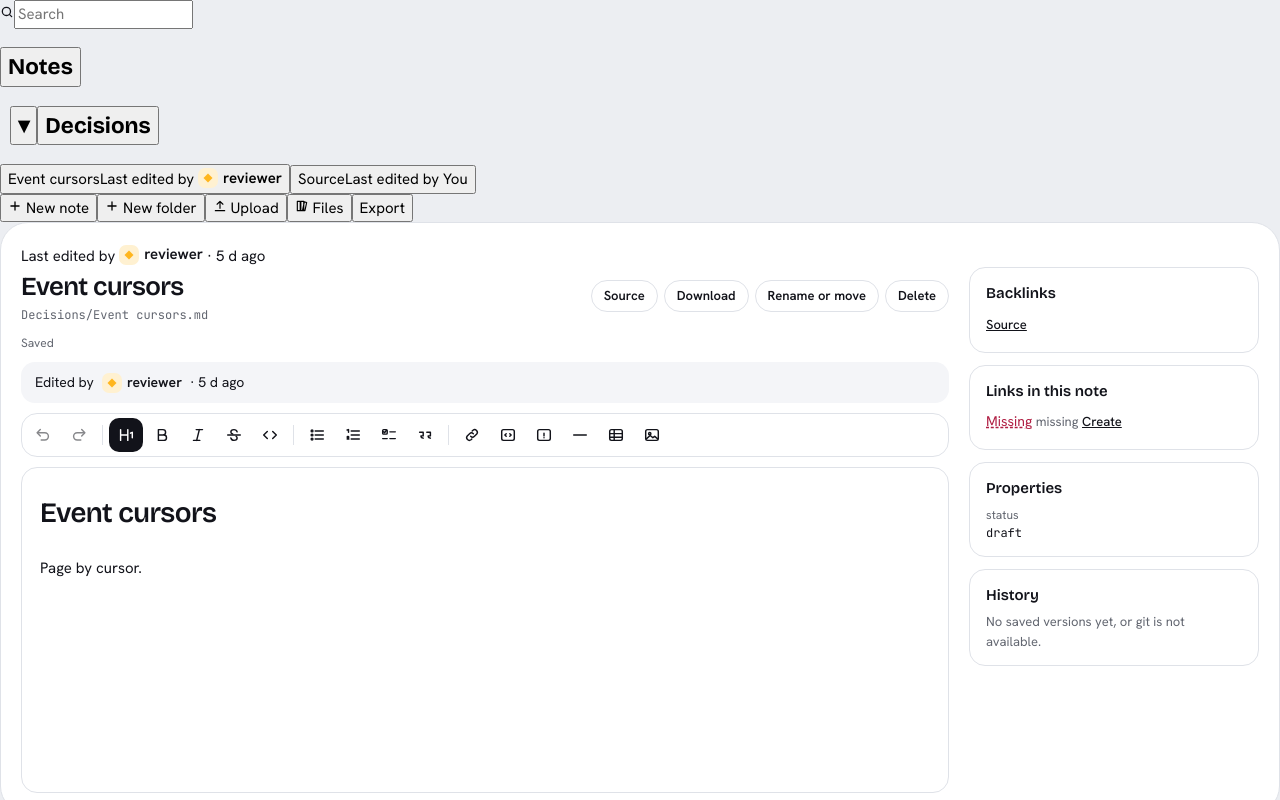
it: a note shows links, backlinks, properties and history; a backlink opens in the panel
Expected: the heading "Backlinks" is shown, [986,284,1056,302]
Expected: the heading "Properties" is shown, [986,479,1062,497]
Click the button "Source" below "Backlinks". click: coordinates (1006, 324)
box: [986,314,1027,334]
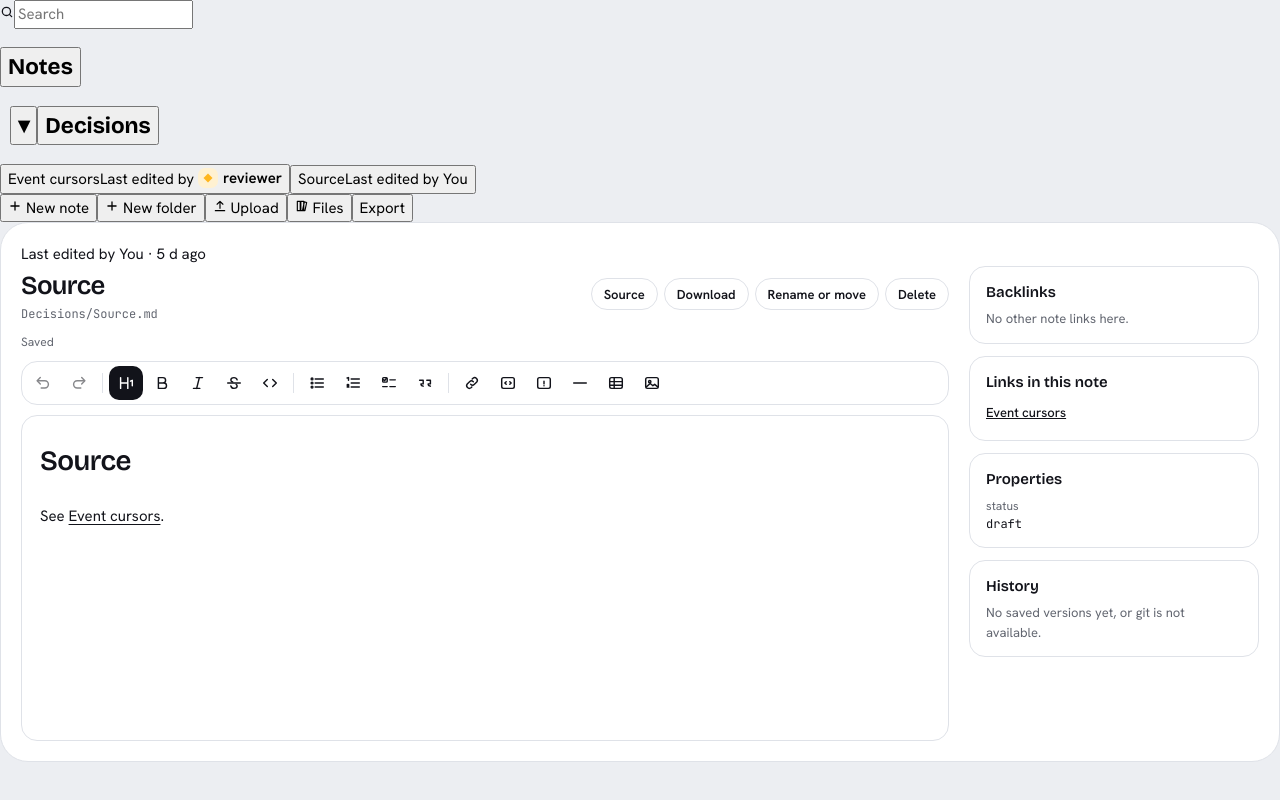
Expected: the field named "Contents of Decisions/Source.md" is shown, [40,444,164,526]
